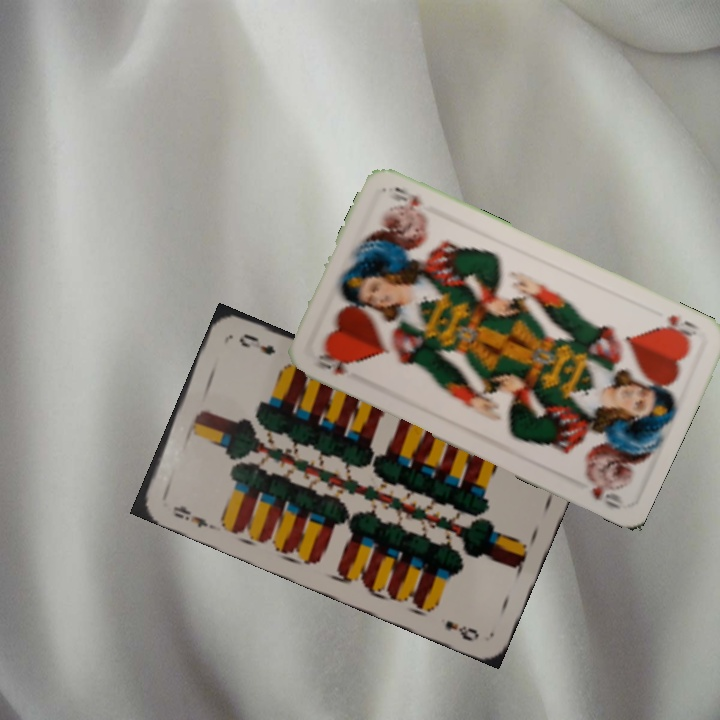E9: (169, 501, 216, 532)
HO: (652, 310, 702, 345), (310, 349, 351, 379)
